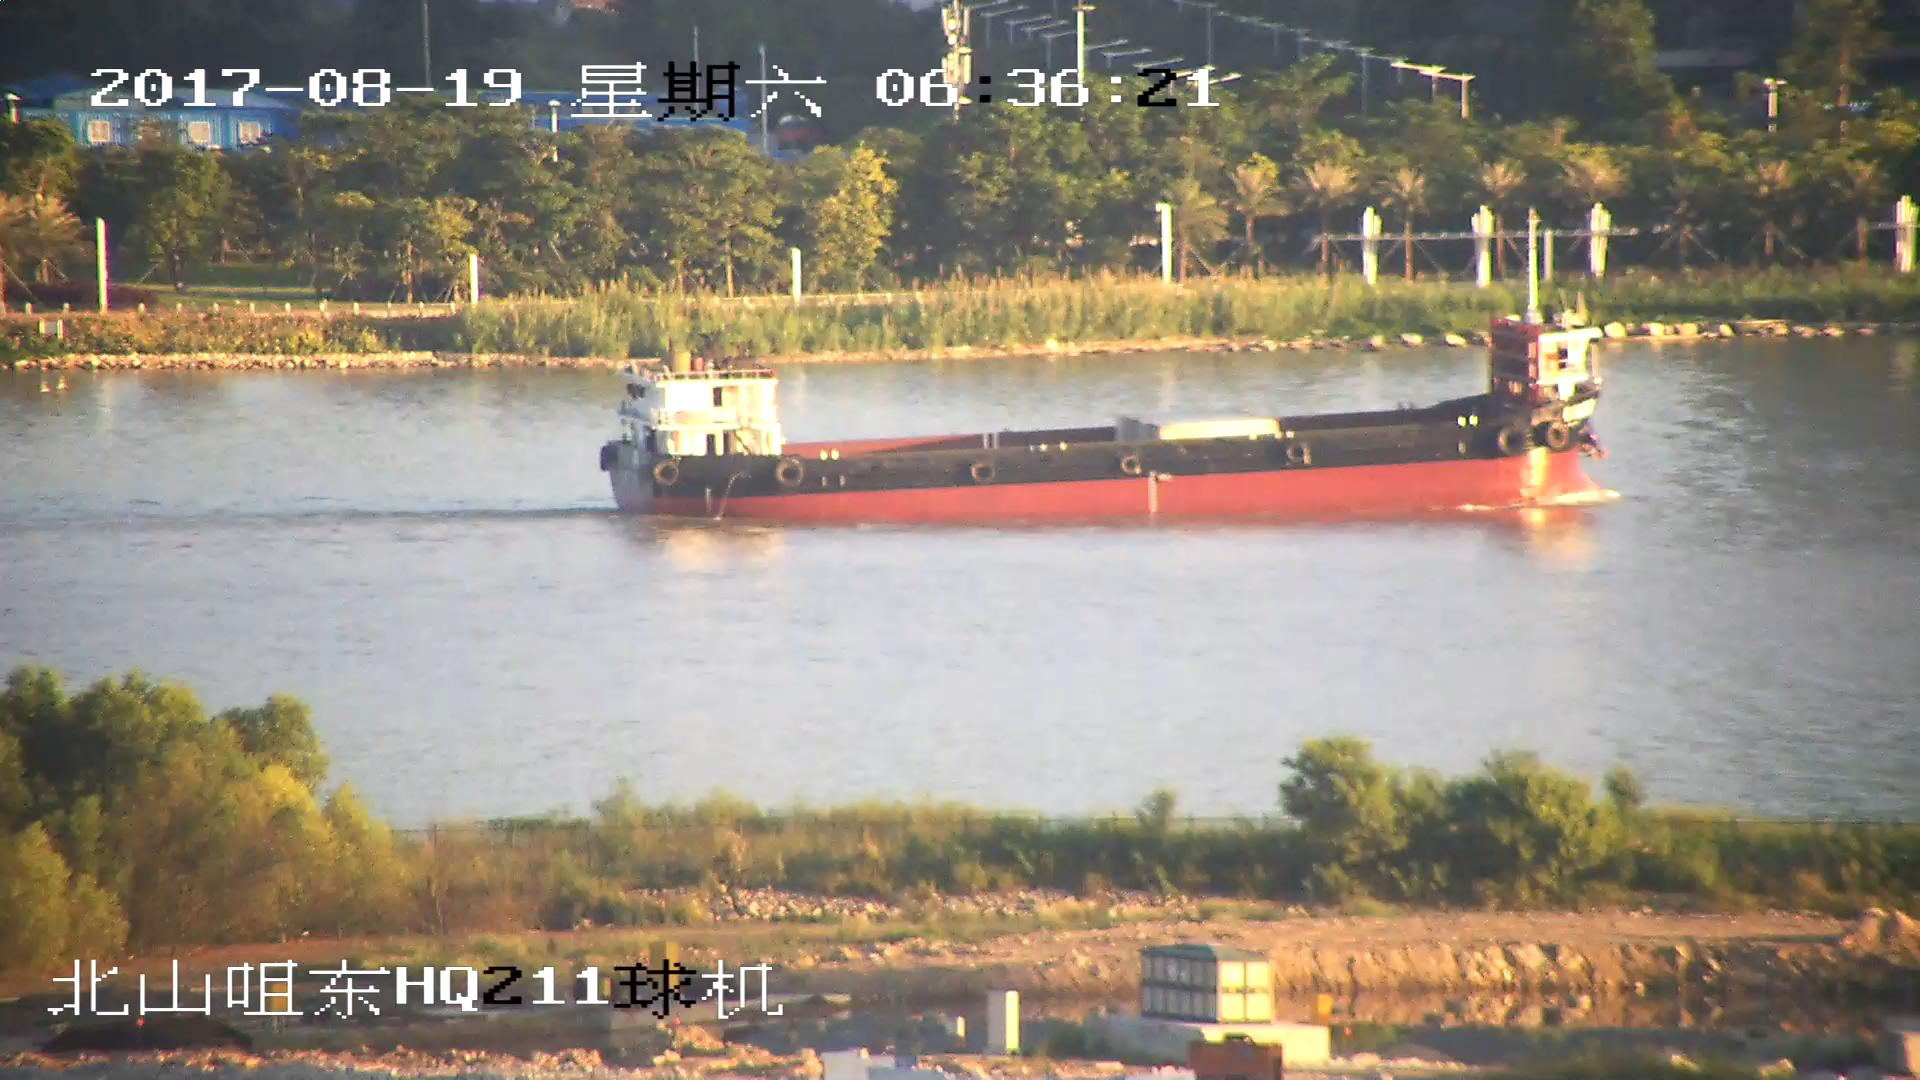general cargo ship: (604, 305, 1595, 530)
